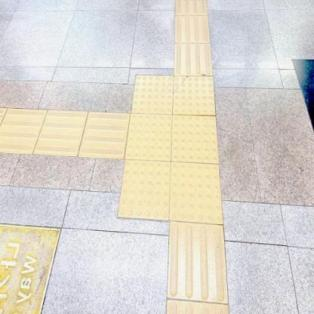Podoctatil: (96, 42, 251, 255), (0, 110, 125, 163), (164, 221, 232, 313), (173, 0, 213, 76)
